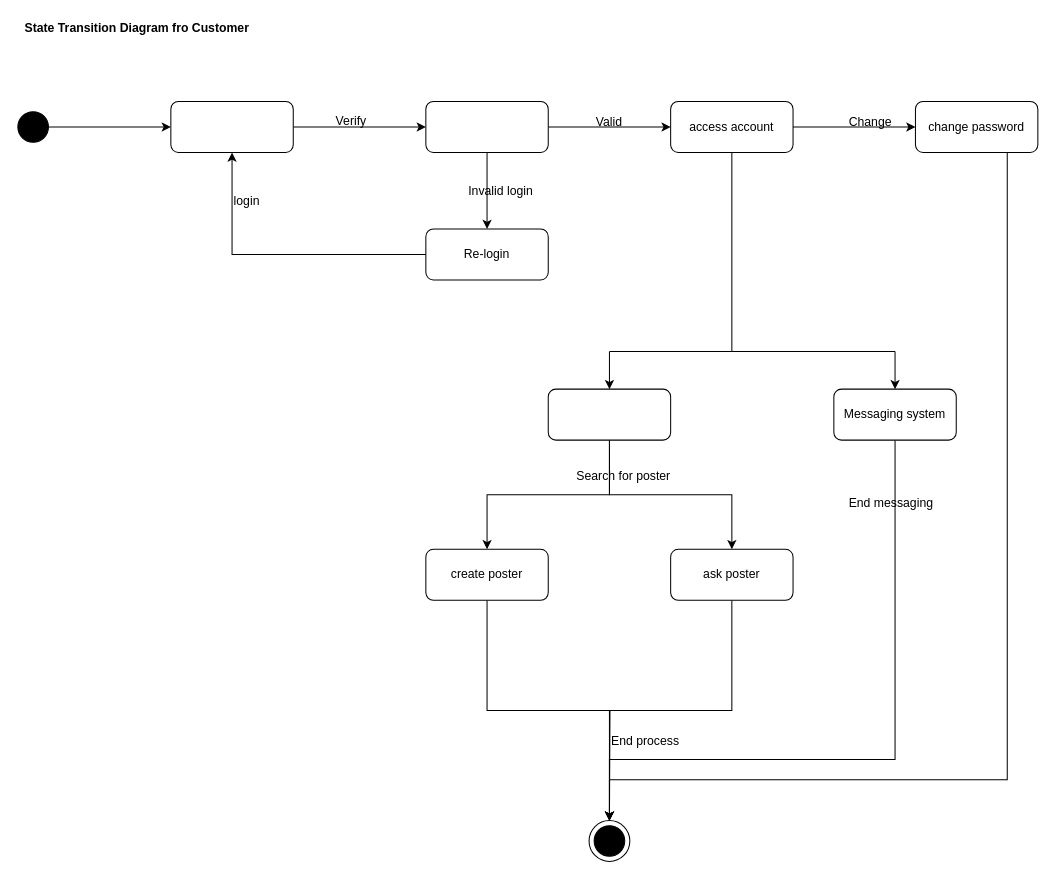
This 1056x879 diagram has some shape labels left out. The shapes that lost their labels are listed below. From the top down, each one's centre as x and y in pixels, then its label:
point 231,126: Customer login
point 486,126: verification
point 609,414: view poster
